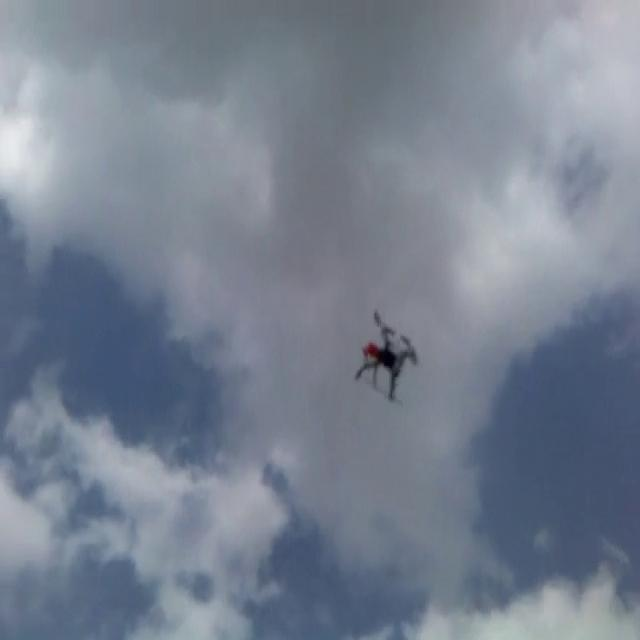drone: (352, 302, 420, 400)
